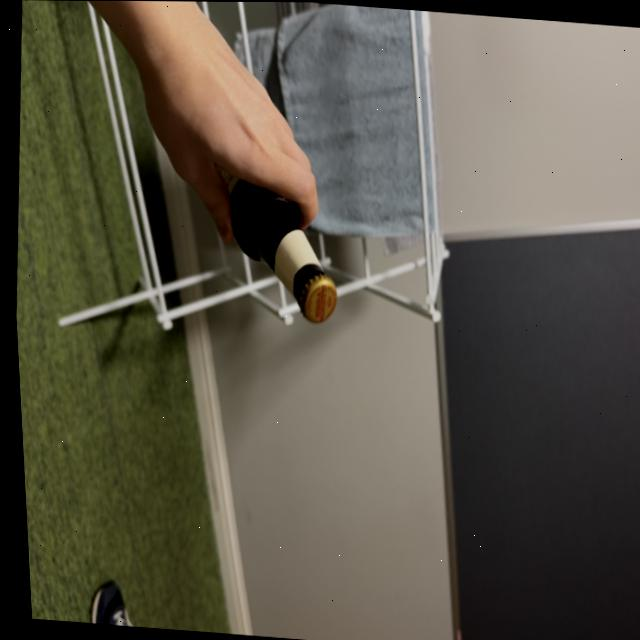beer: (212, 175, 348, 326)
